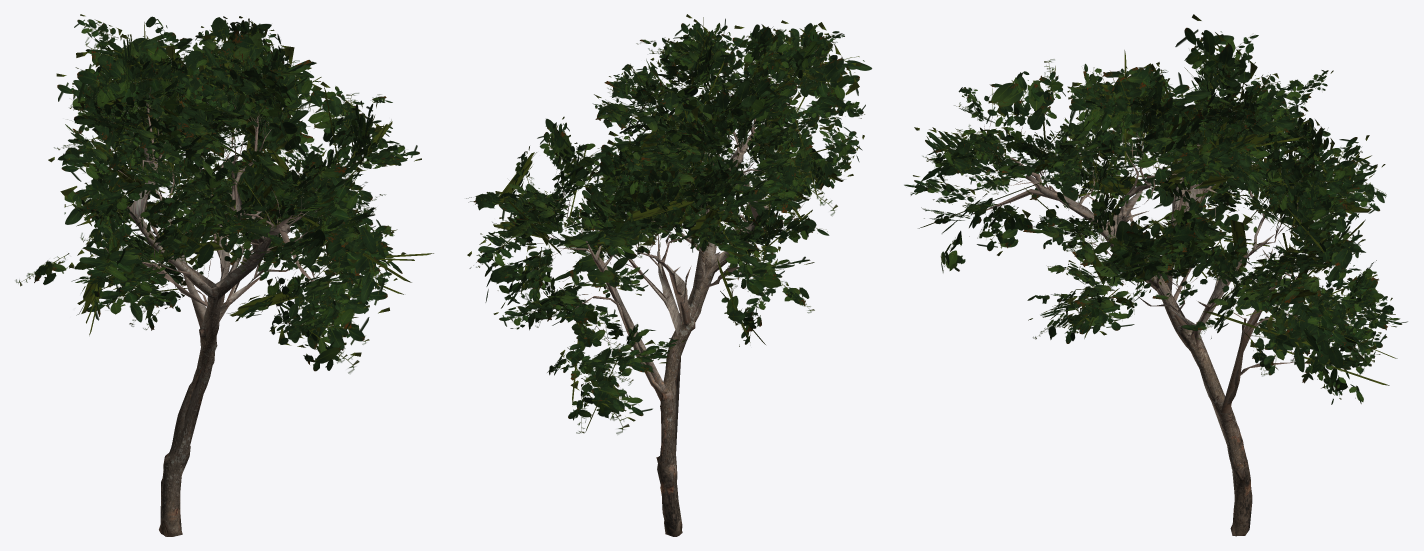
The model's file is trees.glb.
3 renders of one model, left to right at view 1: azimuth 30°, elevation 25°; view 2: azimuth 150°, elevation 25°; view 3: azimuth 270°, elevation 25°, orthographic. The views are drawn at different scales.
Parts seen in each view (by area): view 1: PR16 far foliage, PR16 near foliage, PR16 near wood, PR16 far wood; view 2: PR16 far foliage, PR16 near foliage, PR16 near wood, PR16 far wood; view 3: PR16 far foliage, PR16 near foliage, PR16 near wood, PR16 far wood.
Part boxes in pixels (box(x1,y1,x2,y2)): PR16 far foliage: box(15, 14, 433, 373); PR16 near foliage: box(27, 18, 407, 371); PR16 near wood: box(94, 66, 356, 536); PR16 far wood: box(94, 84, 358, 536); PR16 far foliage: box(467, 14, 871, 434); PR16 near foliage: box(466, 17, 864, 433); PR16 near wood: box(519, 40, 826, 536); PR16 far wood: box(548, 60, 824, 536); PR16 far foliage: box(904, 14, 1407, 392); PR16 near foliage: box(910, 32, 1395, 404); PR16 near wood: box(968, 92, 1354, 535); PR16 far wood: box(975, 122, 1314, 536).
Bounding box in the file's own units: 0.6932 × 1.04 × 0.9889.
3 materials, 3 textured.
